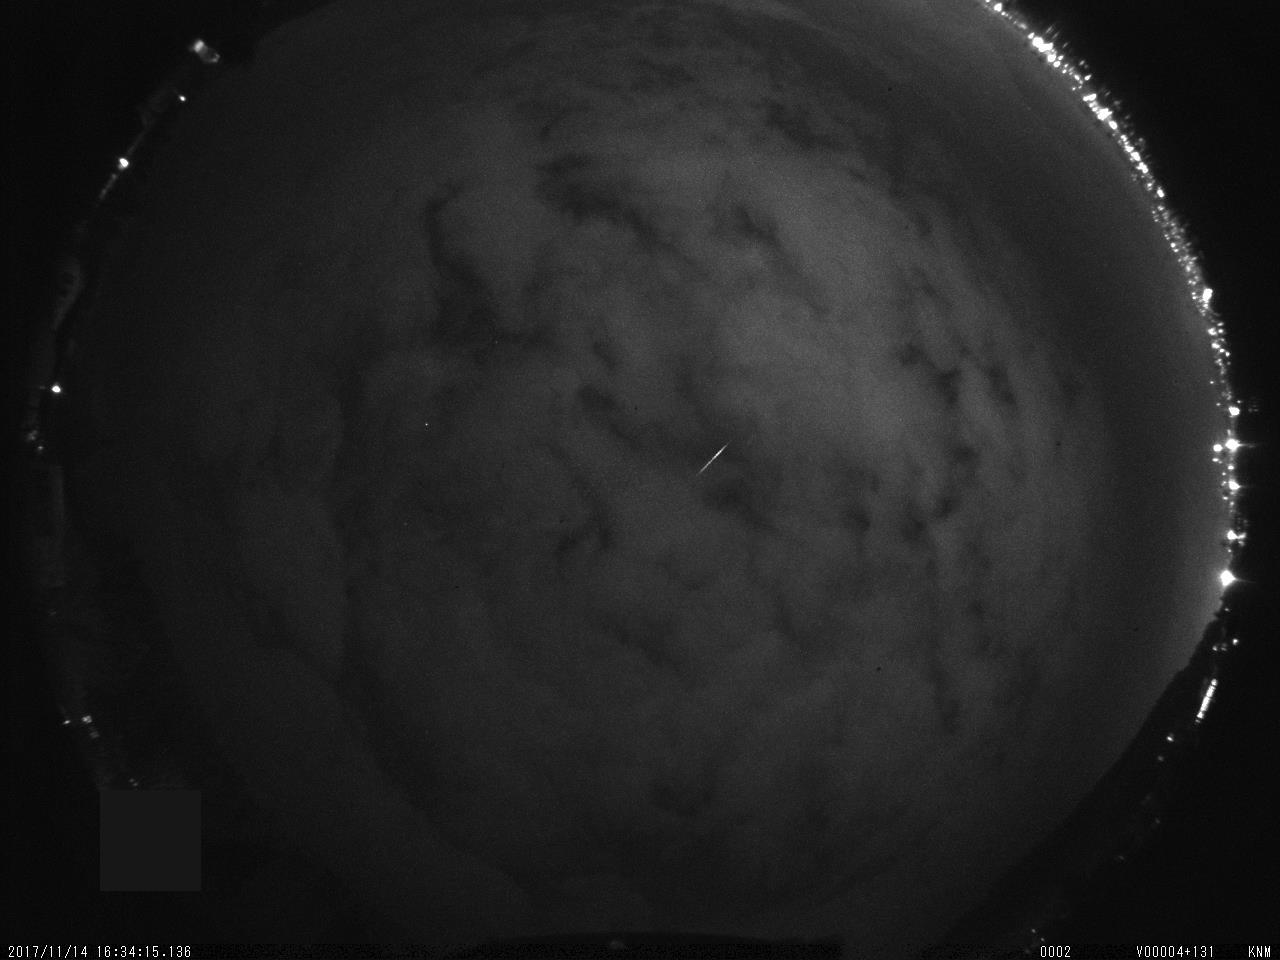meteor: (665, 432, 754, 487)
